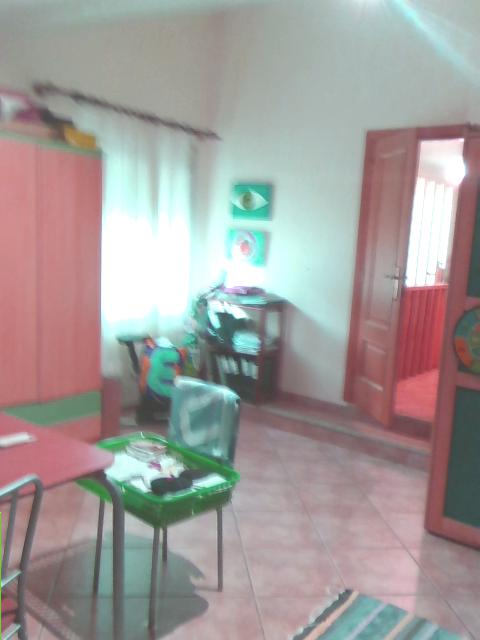semi_door: (341, 122, 479, 440)
